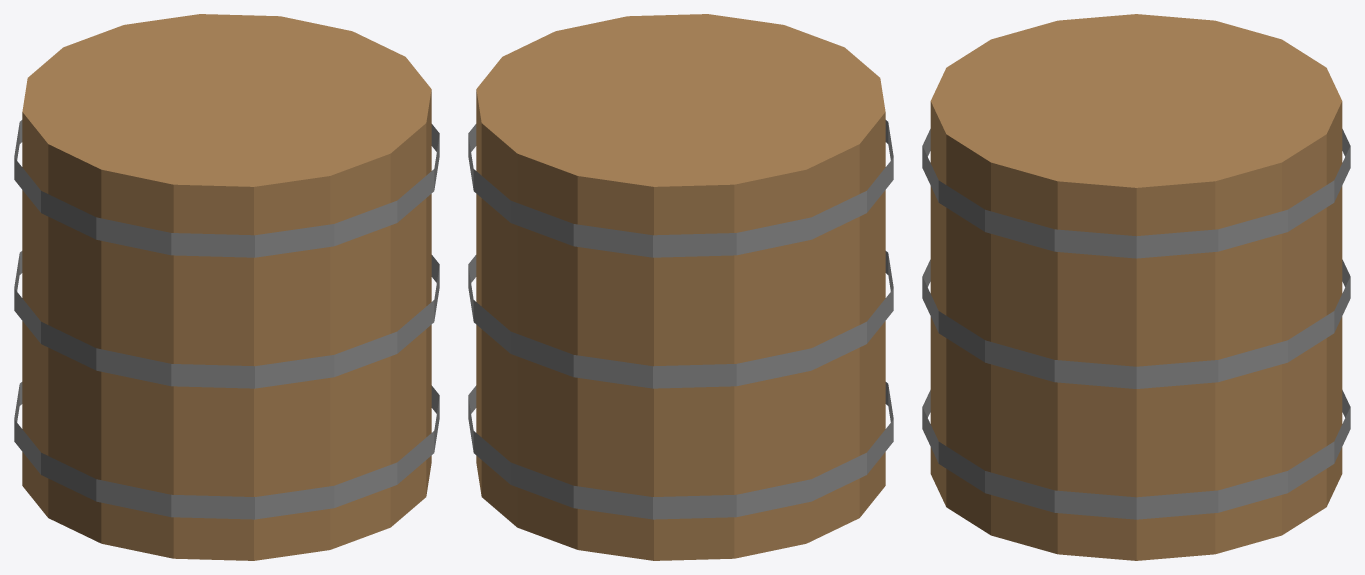
The model's file is barrel.glb.
3 views of the same model, side by side, from view 1: azimuth 30°, elevation 25°; view 2: azimuth 150°, elevation 25°; view 3: azimuth 270°, elevation 25° (orthographic).
Parts seen in each view (by area): view 1: Barrel; view 2: Barrel; view 3: Barrel.
Boxes of the visible parts, x1,y1,x2,y2 form: Barrel: (14,14,439,560); Barrel: (468,14,893,560); Barrel: (922,14,1350,560).
Size of the model in its own units: 1.04 by 1 by 1.04.
